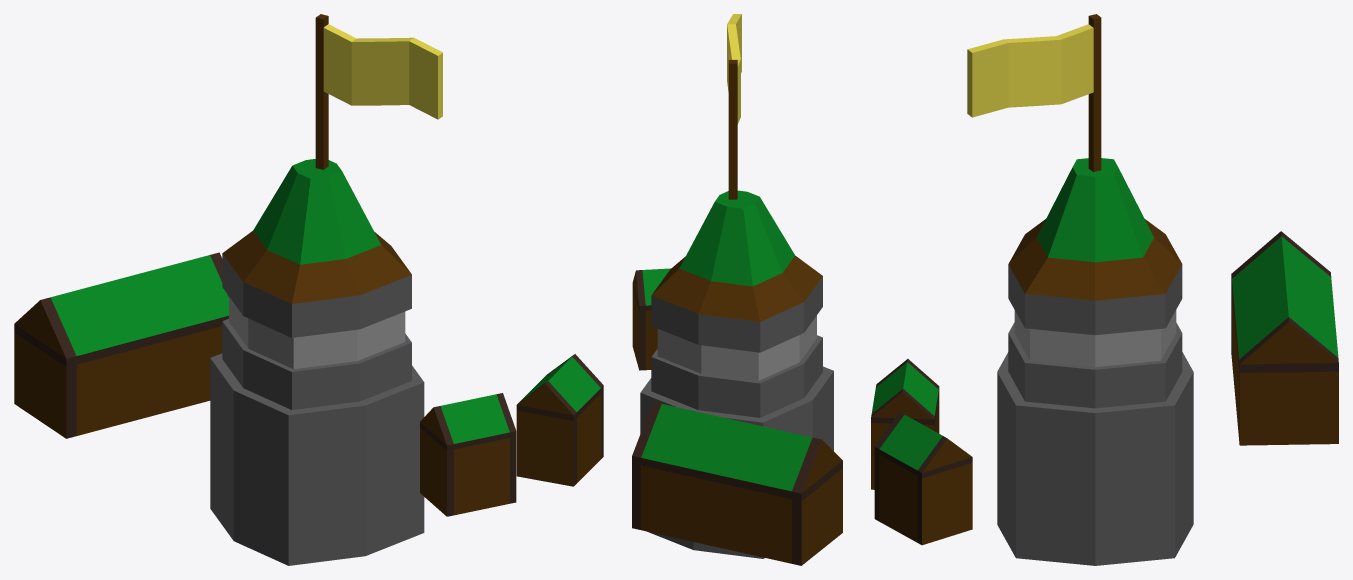
File: SM_TileGuildHall.fbx
The picture shows the model from 3 angles, left to right: view 1: azimuth 30°, elevation 25°; view 2: azimuth 150°, elevation 25°; view 3: azimuth 270°, elevation 25°; orthographic projection. The views are drawn at different scales.
Visible parts, largest first — view 1: TileGuildHall, TileGuildHallFlag; view 2: TileGuildHall, TileGuildHallFlag; view 3: TileGuildHall, TileGuildHallFlag.
Boxes of the visible parts, box(x1,y1,x2,y2) form: TileGuildHall: box(14, 159, 603, 565); TileGuildHallFlag: box(315, 14, 442, 169); TileGuildHall: box(632, 190, 842, 565); TileGuildHallFlag: box(727, 14, 741, 199); TileGuildHall: box(871, 158, 1338, 565); TileGuildHallFlag: box(967, 14, 1101, 171).
Size of the model in its own units: 386 by 478 by 398.
